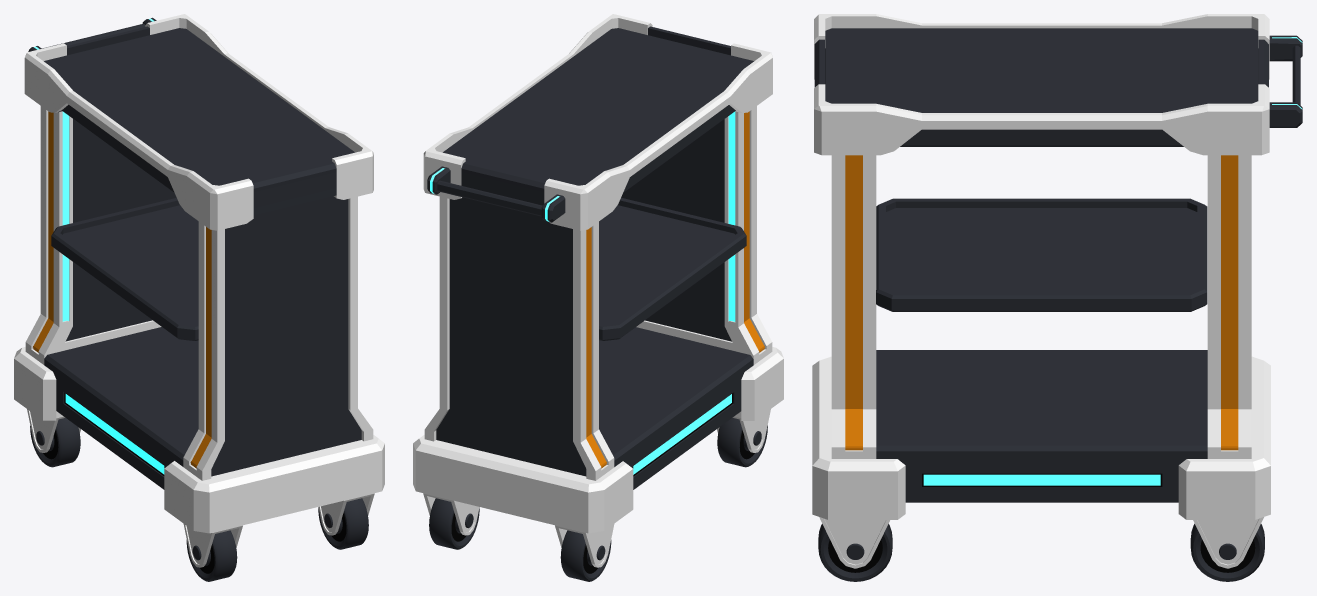
The model's file is SM_Medical_Roling_Cart.fbx.
3 renders of one model, left to right at view 1: azimuth 30°, elevation 25°; view 2: azimuth 150°, elevation 25°; view 3: azimuth 270°, elevation 25°, orthographic. The views are drawn at different scales.
Parts seen in each view (by area): view 1: SM_Medical_Roling_Cart.001; view 2: SM_Medical_Roling_Cart.001; view 3: SM_Medical_Roling_Cart.001.
Part boxes in pixels (x1,y1,x2,y2): SM_Medical_Roling_Cart.001: (14,14,384,581); SM_Medical_Roling_Cart.001: (413,14,783,581); SM_Medical_Roling_Cart.001: (812,14,1302,581).
Size of the model in its own units: 54.44 by 109 by 102.
